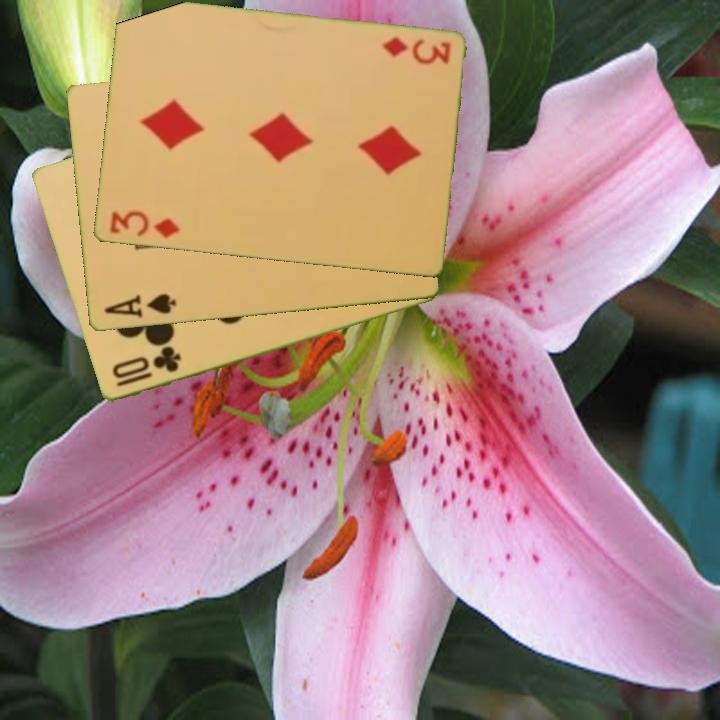10c: (108, 344, 183, 391)
3d: (106, 207, 182, 242), (378, 33, 453, 68)
As: (100, 290, 178, 321)
